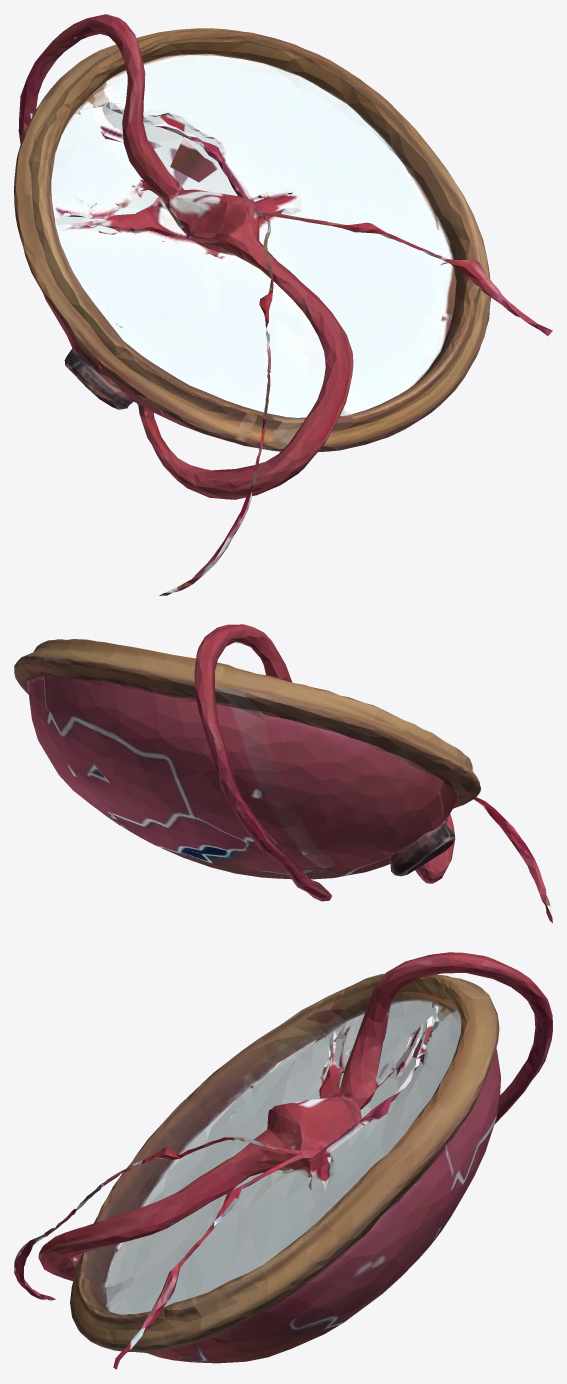
The model's file is compass.glb.
3 renders of one model, top to bottom at view 1: azimuth 30°, elevation 25°; view 2: azimuth 150°, elevation 25°; view 3: azimuth 270°, elevation 25°, orthographic. The views are drawn at different scales.
Visible parts, largest first — view 1: tmpo399pqqo.ply; view 2: tmpo399pqqo.ply; view 3: tmpo399pqqo.ply.
Boxes of the visible parts, x1=… form: tmpo399pqqo.ply: x1=14, y1=14, x2=552, y2=595; tmpo399pqqo.ply: x1=14, y1=624, x2=552, y2=922; tmpo399pqqo.ply: x1=14, y1=952, x2=552, y2=1369.
Bounding box in the file's own units: 1.96 × 1.72 × 1.99.
Materials: 1 (1 with a texture image).
